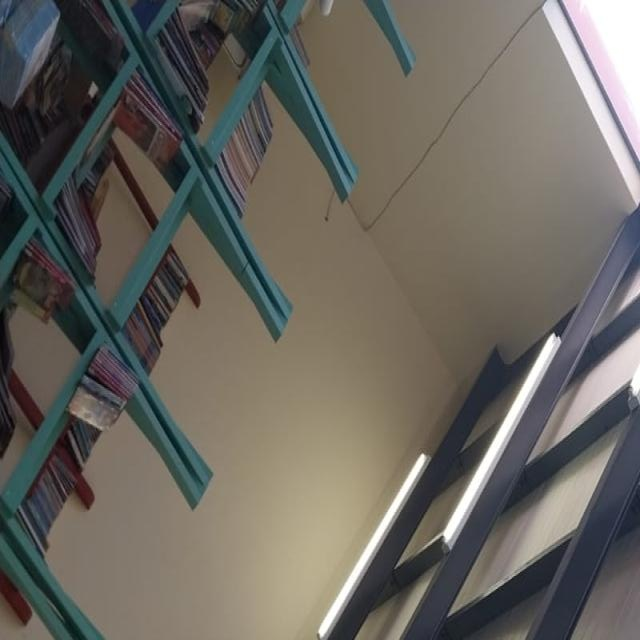fluorescent tube: (422, 277, 584, 594), (266, 405, 436, 640), (598, 107, 640, 458), (556, 543, 640, 640)
